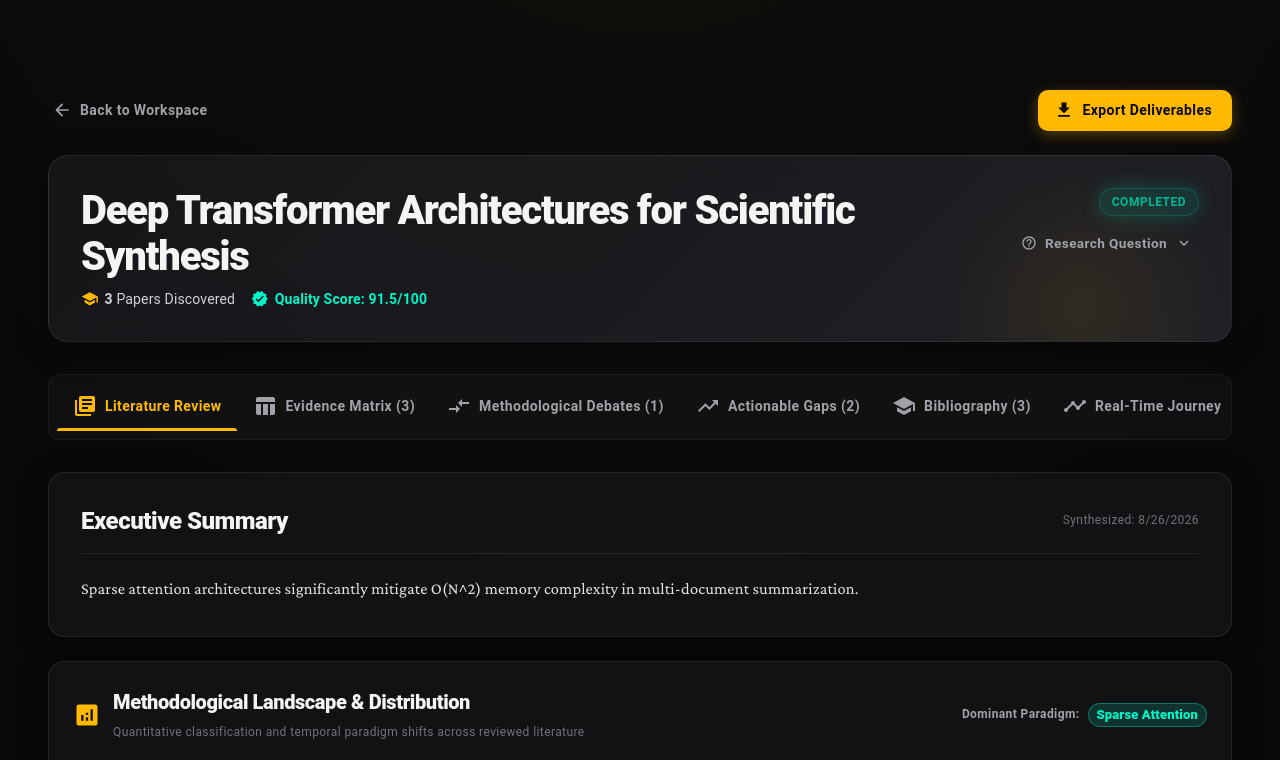
Test: ProjectDetailsPage Empirical Challenger Test Suite › 4. Full Report State Verification across all 6 Tabs › Tab 1 (Evidence Matrix): supports search filtering, full-text toggle, sorting, and row expansion
The image size is (1280, 760).
Expected: the heading "Deep Transformer Architectures for Scientific Synthesis" is shown, [81,186,855,280]
Click the tab "Evidence Matrix (3)": (334, 407) [238,383,431,431]
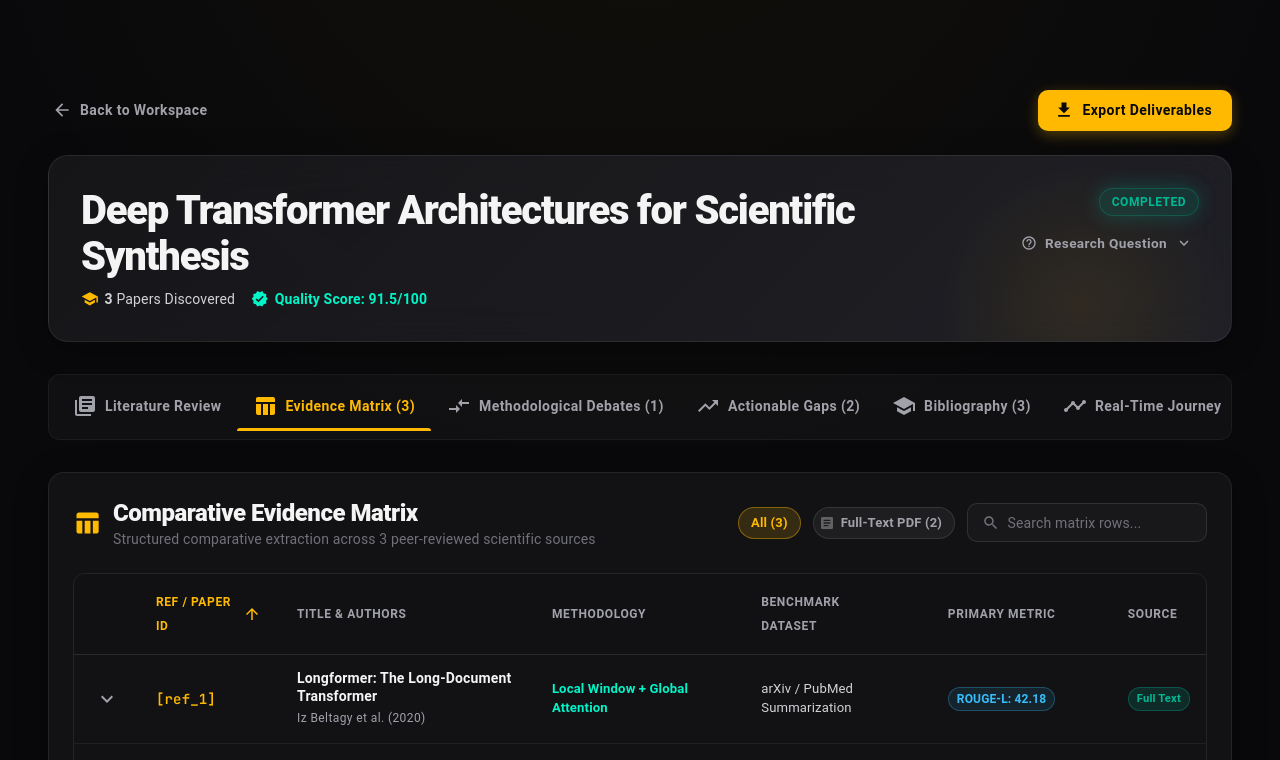
Expected: the heading "Comparative Evidence Matrix" is shown, [113,499,418,527]
Expected: the text "[ref_1]" is shown, [140,654,281,744]
Note: Full-Text filter
Click the button "Full-Text PDF (2)": (884, 523) [813,507,955,539]
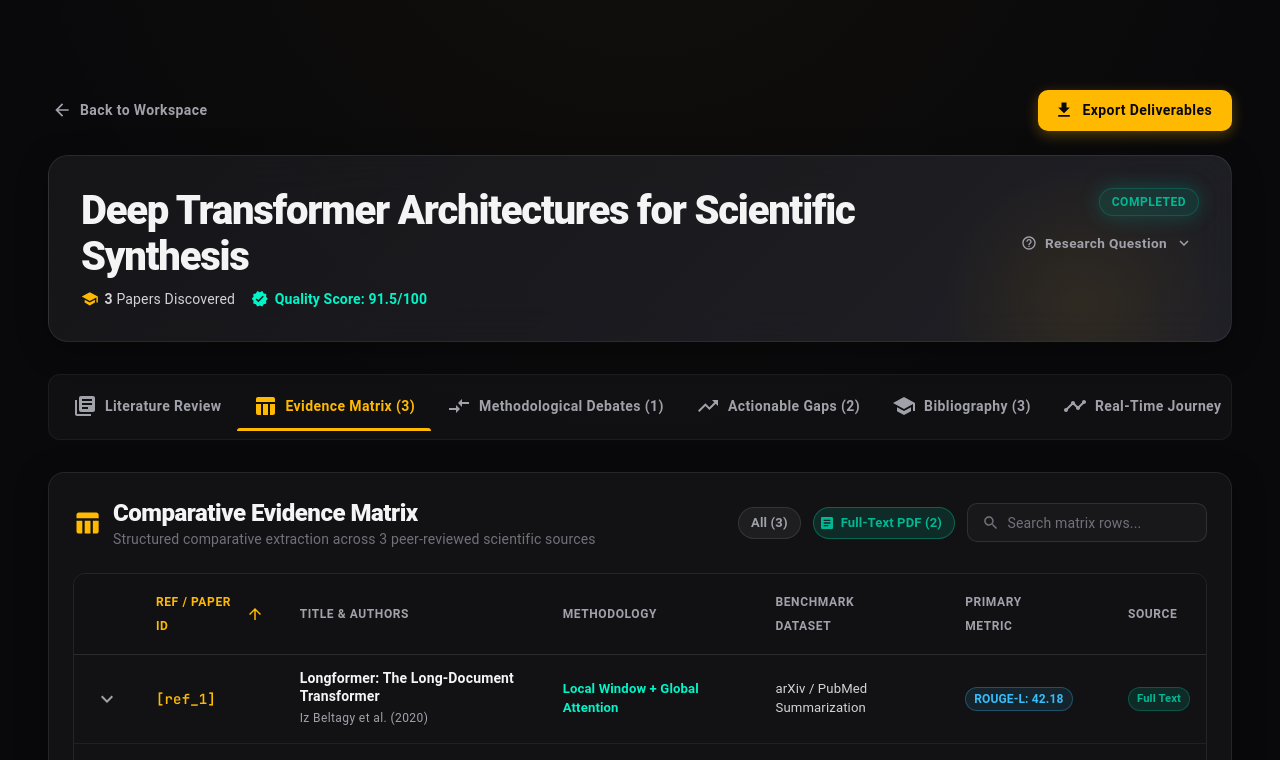
Expected: the text "[ref_3]" is not shown
Expected: the text "[ref_1]" is shown, [140,654,284,744]
Note: Reset to All
Click the button "All (3)": (769, 523) [738,507,801,539]
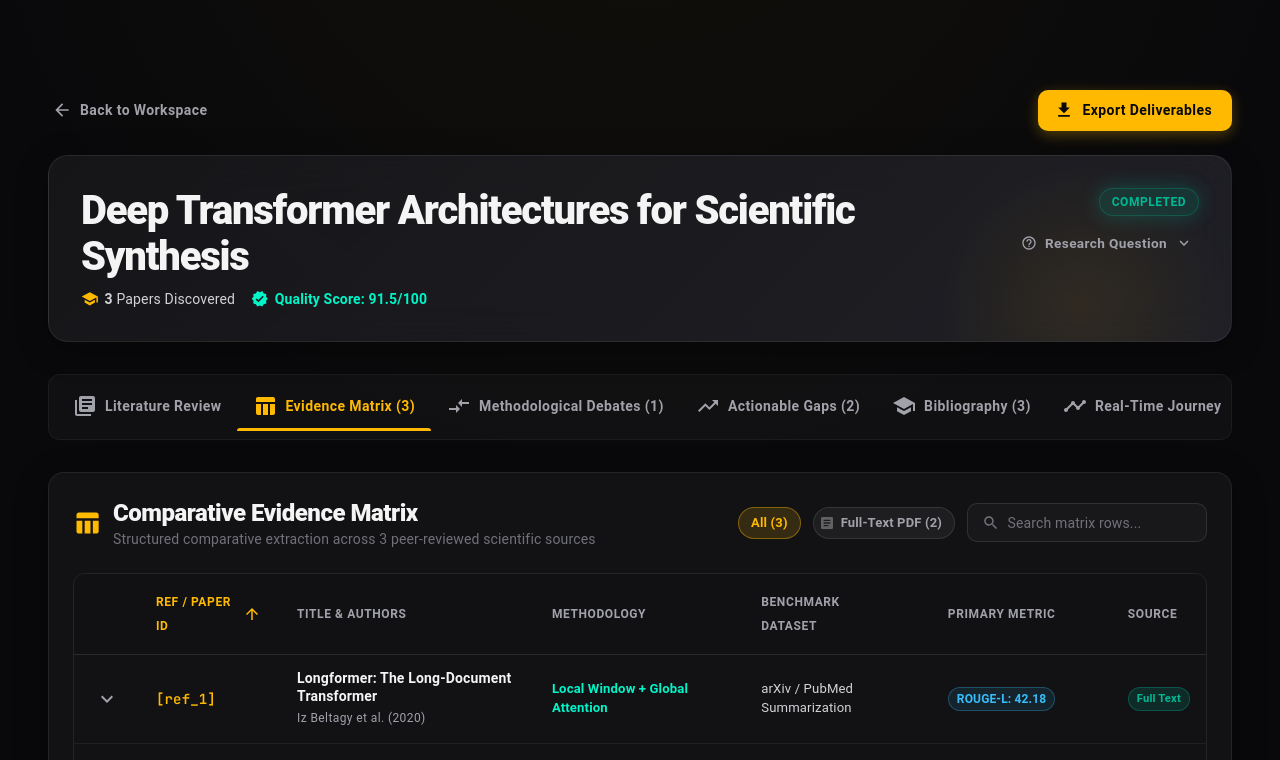
Note: Search filter
In the field with placeholder "Search matrix rows...": (1107, 523) [1008,504,1206,541], type "Longformer"
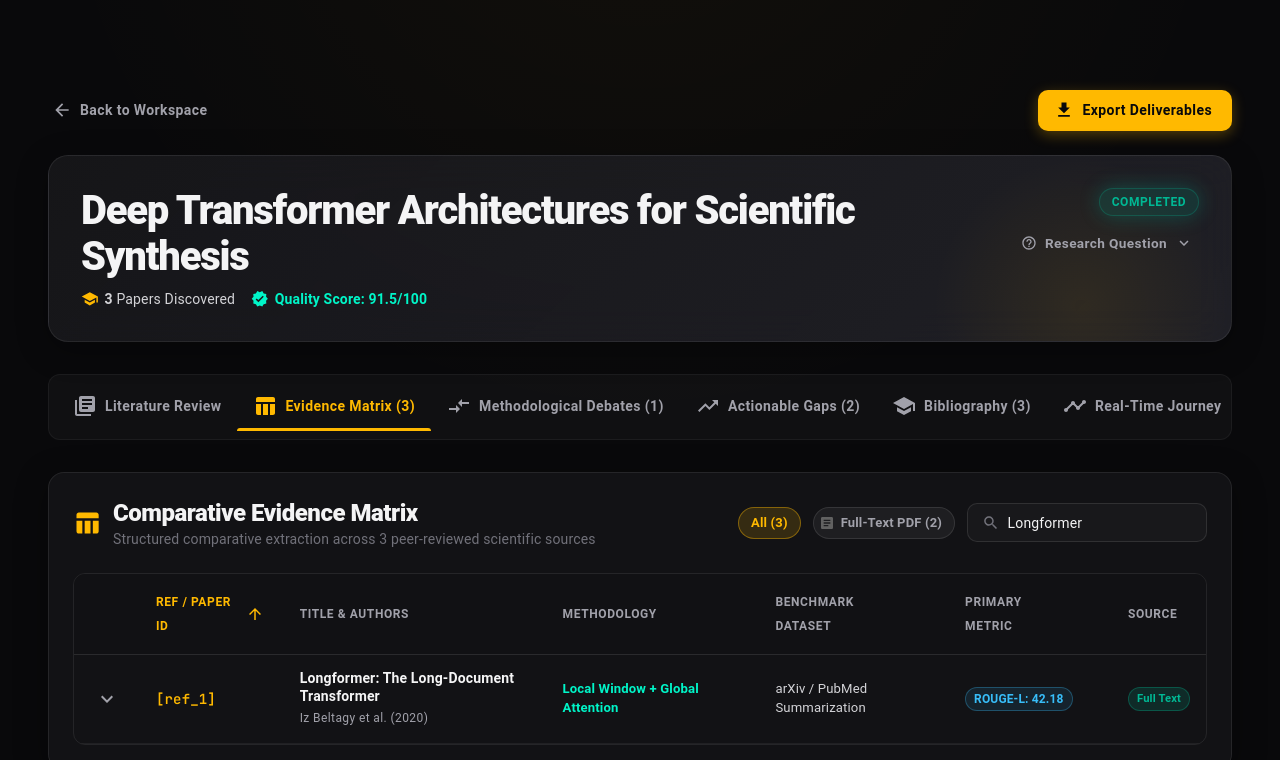
Expected: the text "[ref_2]" is not shown
Expected: the text "[ref_1]" is shown, [140,654,284,744]
Clear the field with placeholder "Search matrix rows...": (1107, 523) [1008,504,1206,541]
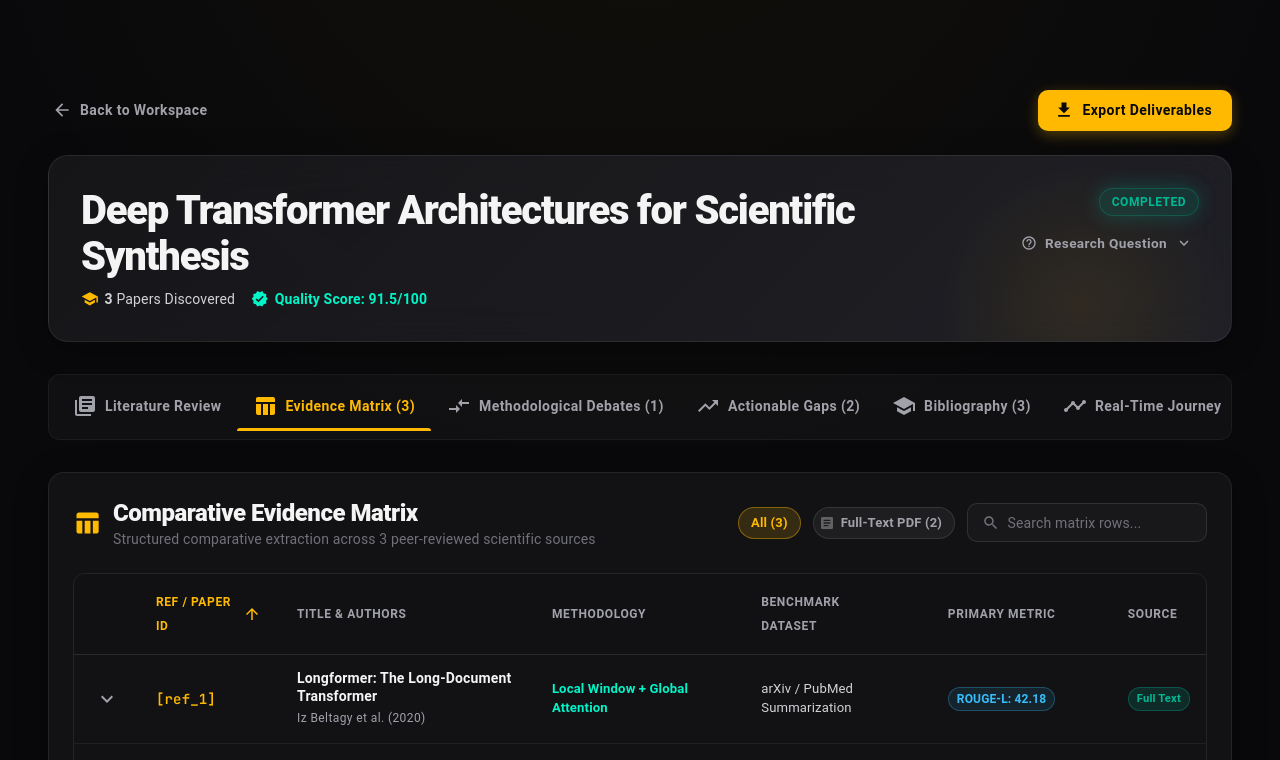
Note: Expand row
Click the text "Longformer: The Long-Document Transformer": (408, 687) [297,669,520,705]
(page scrolled)
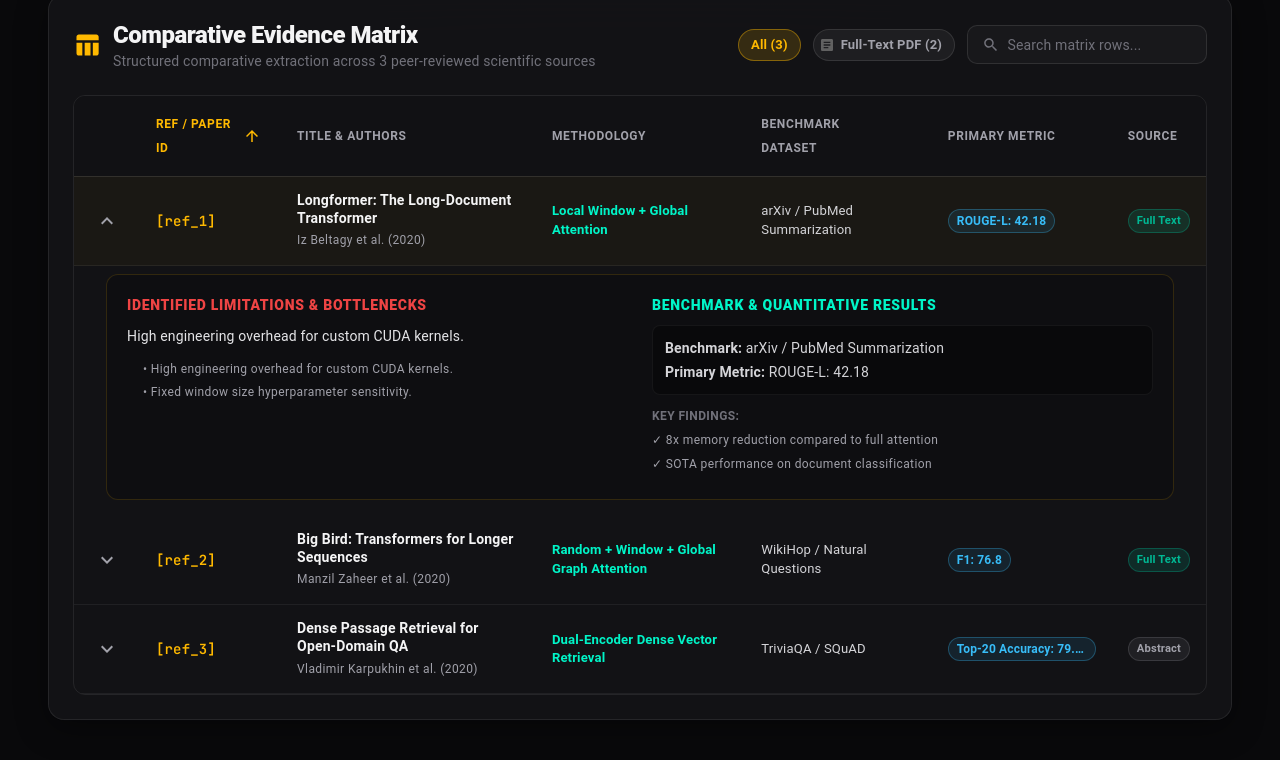
Expected: the heading "Identified Limitations & Bottlenecks" is shown, [127,297,427,313]
Expected: the text "High engineering overhead for custom CUDA kernels." is shown, [127,328,464,344]
Expected: the text "✓ 8x memory reduction compared to full attention" is shown, [652,433,938,447]
